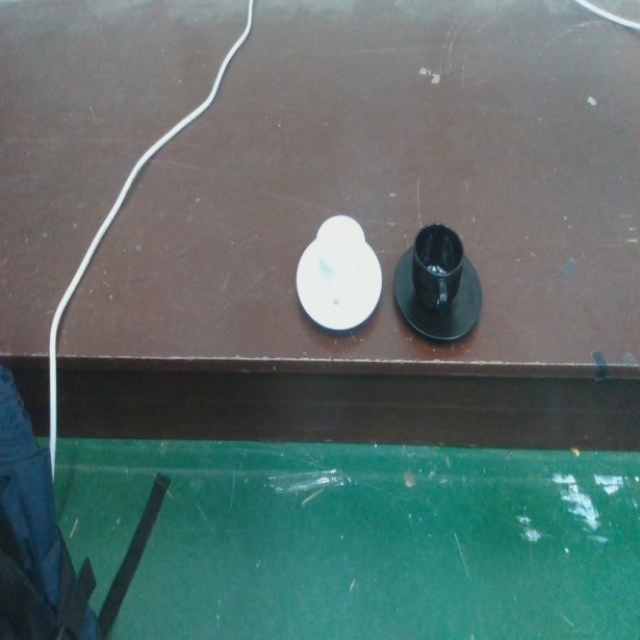black: (390, 219, 484, 347)
white: (294, 210, 385, 337)
